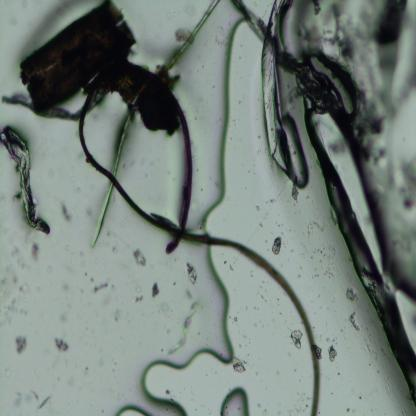Air bubble: (103, 352, 201, 415)
Background material: (19, 0, 137, 107), (10, 246, 36, 318), (13, 383, 50, 410), (59, 198, 74, 224), (53, 333, 70, 354), (14, 334, 29, 355), (290, 327, 304, 349), (348, 310, 363, 330), (186, 262, 199, 285), (271, 235, 284, 258), (176, 28, 194, 43), (232, 358, 247, 376), (135, 247, 146, 268), (345, 289, 360, 304), (30, 242, 40, 264), (133, 284, 144, 304), (150, 282, 162, 300), (94, 282, 111, 294), (328, 345, 338, 360), (228, 262, 234, 274)
Cellulose filter fibre: (92, 0, 220, 247), (0, 124, 51, 238), (0, 82, 112, 122), (168, 302, 199, 353), (220, 385, 250, 415)
Edge of slide: (264, 0, 416, 400)
Microfibre: (80, 65, 320, 415)
